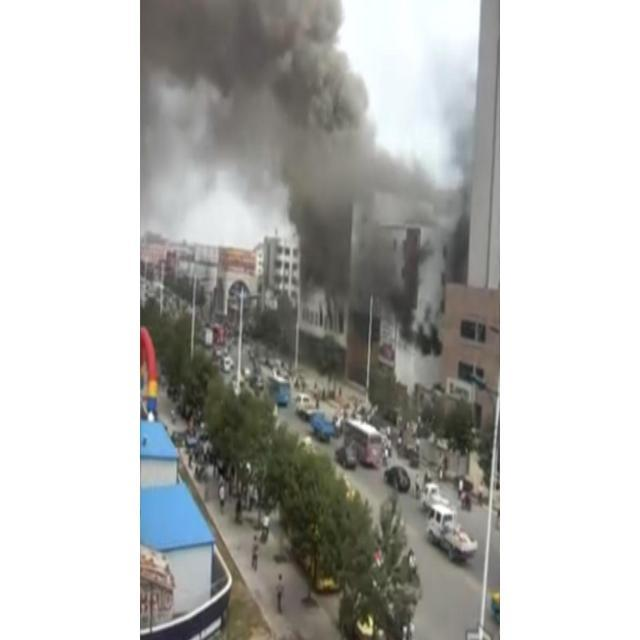Smoke: (140, 1, 478, 360)
